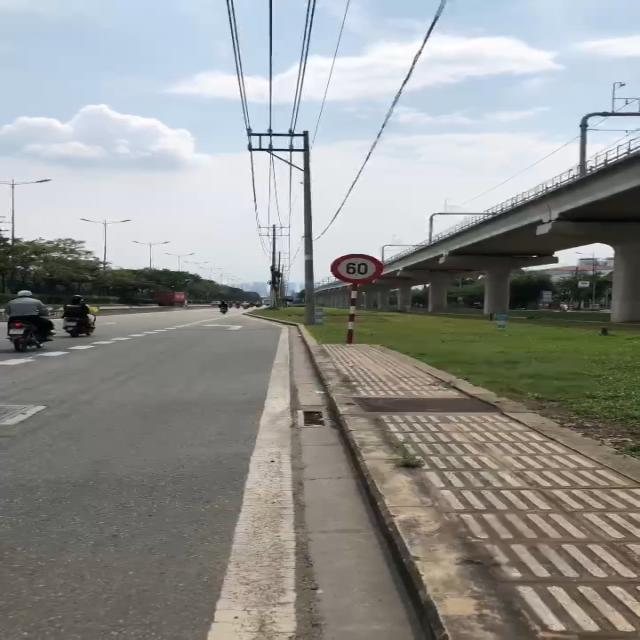Bien bao toc do toi da cho phep: (333, 246, 387, 289)
